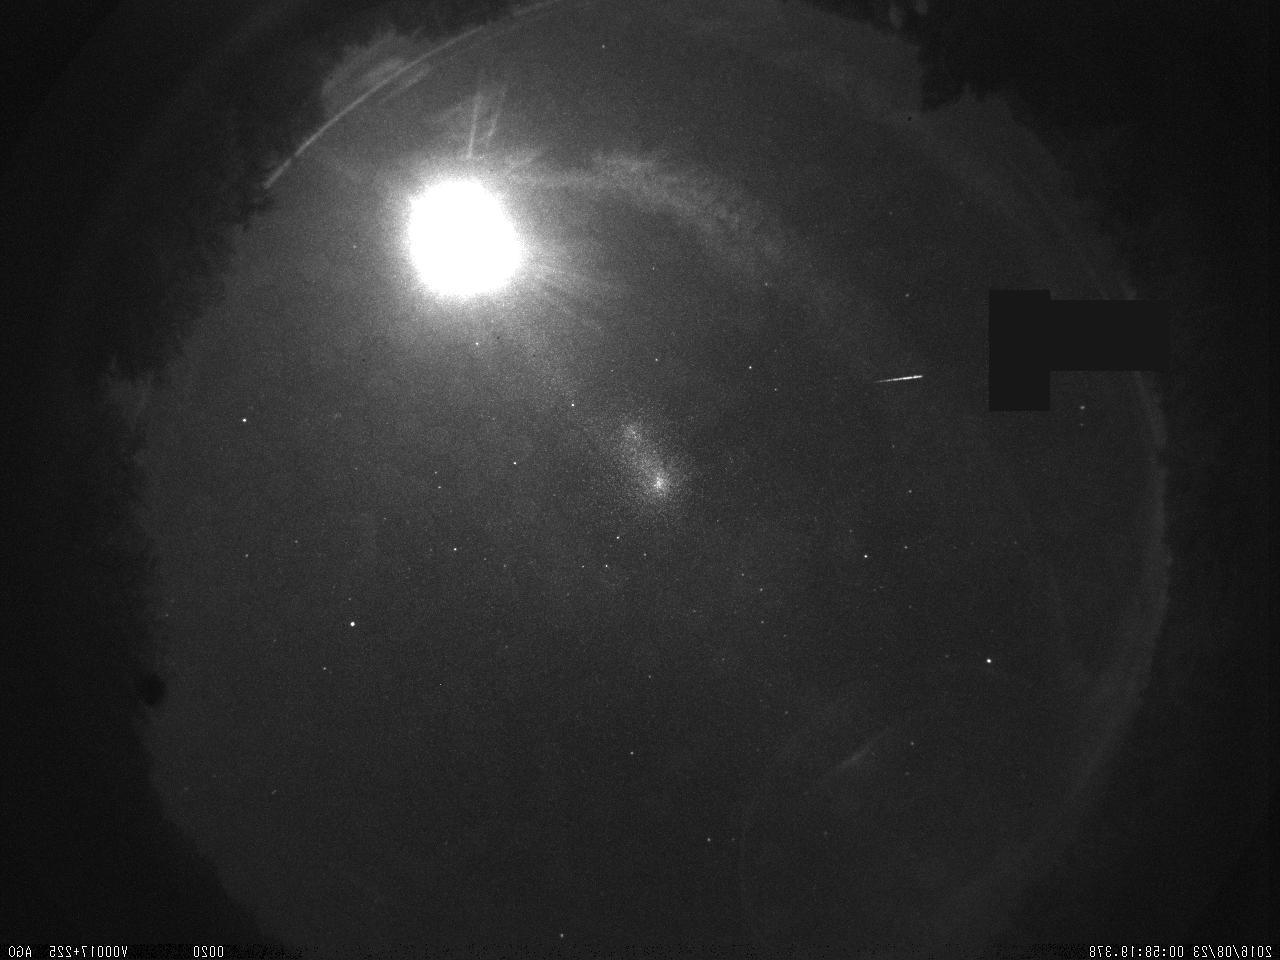meteor: (873, 363, 929, 393)
